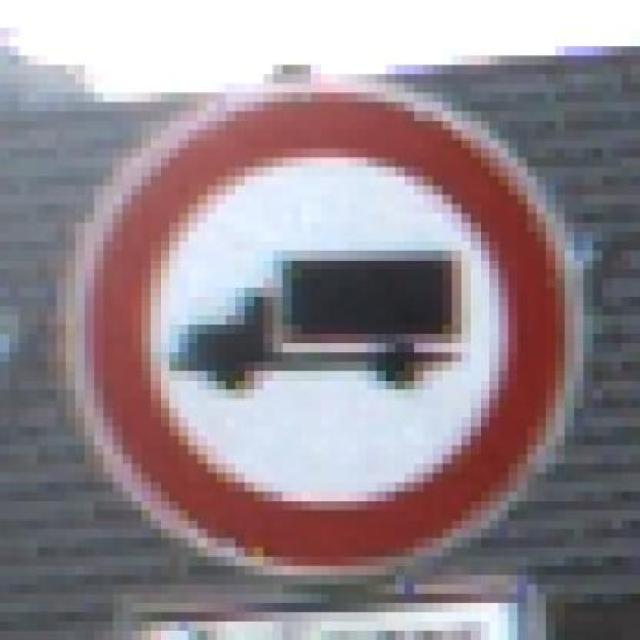Truck traffic is prohibited: (38, 46, 612, 594)
